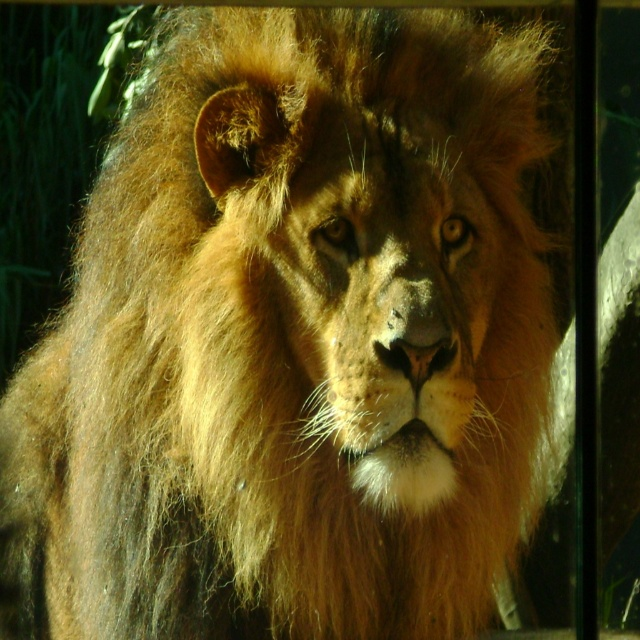Lion: (0, 0, 574, 640)
